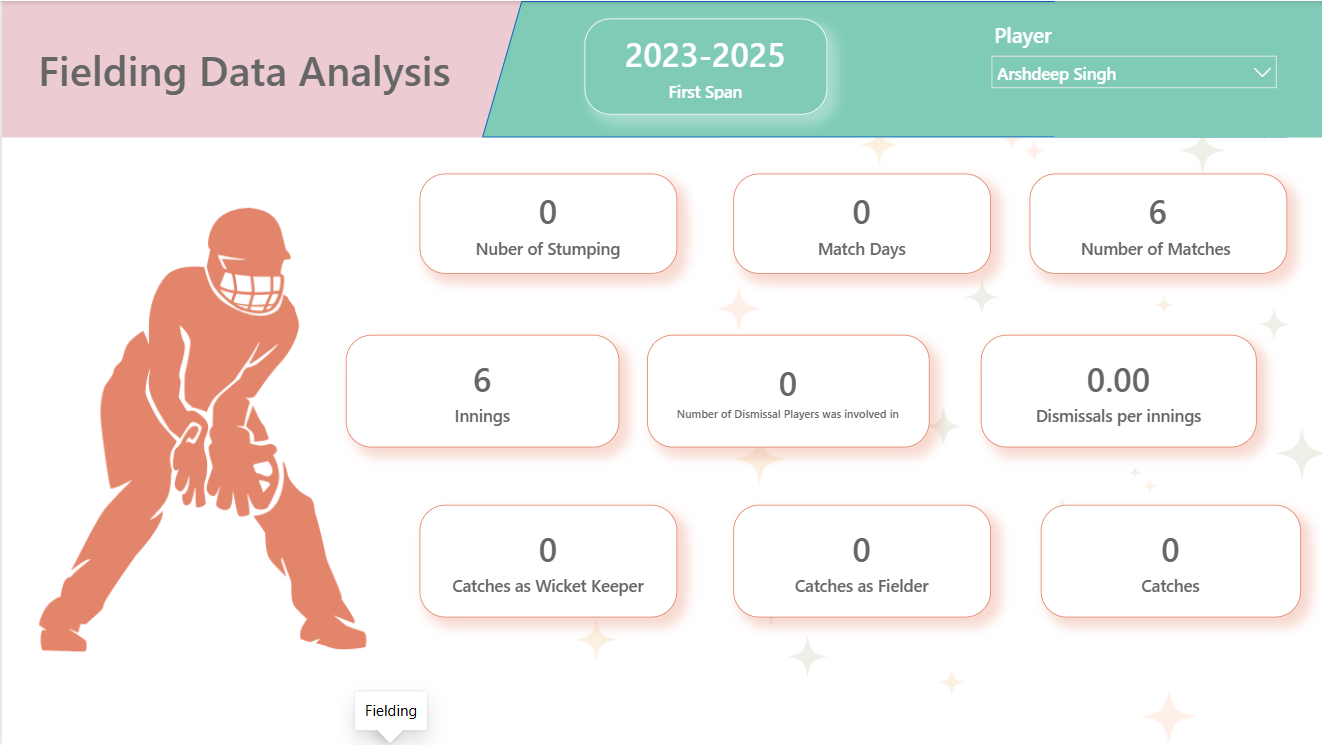

This screenshot's page, from the dashboard's own definition file:
{"tool":"powerbi","page":{"name":"Fielding","canvas":[1280,720],"ordinal":2},"visuals":[{"type":"shape","box":[0,0,693,131.7],"z":0},{"type":"shape","box":[463.8,0,815.1,131.7],"z":1000},{"type":"shape","box":[1015.4,0,264.8,131.7],"z":2000},{"type":"slicer","fields":{"Values":["fielding.Player"]},"box":[944.6,14.5,295.6,103.8],"z":3000},{"type":"card","fields":{"Values":["Min(fielding.Span)"]},"box":[562.2,16.9,234,92.9],"z":4000},{"type":"card","fields":{"Values":["Sum(fielding.St)"]},"box":[403,166.5,248.5,96.5],"z":5000},{"type":"card","fields":{"Values":["Min(fielding.MD)"]},"box":[705.8,166.5,248.5,96.5],"z":6000},{"type":"card","fields":{"Values":["Sum(fielding.Mat)"]},"box":[991.7,166.5,248.5,96.5],"z":7000},{"type":"card","fields":{"Values":["Sum(fielding.Inns)"]},"box":[331.8,322.1,264.2,108.6],"z":8000},{"type":"card","fields":{"Values":["Sum(fielding.DisDescending)"]},"box":[622.5,322.1,272.7,108.6],"z":9000},{"type":"card","fields":{"Values":["Sum(fielding.D/I)"]},"box":[944.6,322.1,266.6,108.6],"z":10000},{"type":"card","fields":{"Values":["Sum(fielding.Ct Wk)"]},"box":[403,486.2,248.5,108.6],"z":11000},{"type":"card","fields":{"Values":["Sum(fielding.Ct Fi)"]},"box":[705.8,486.2,248.5,108.6],"z":12000},{"type":"card","fields":{"Values":["Sum(fielding.Ct)"]},"box":[1002.6,486.2,250.9,108.6],"z":13000}]}

Visuals, with their boxes in screenshot pixels (x1, y1, x2, y2), scaled from the page's 1280x720 canvas onto the 1322x745 screenshot:
shape: (0, 0, 716, 136)
shape: (479, 0, 1321, 136)
shape: (1049, 0, 1321, 136)
slicer - fielding.Player: (976, 15, 1281, 122)
card - Min(fielding.Span): (581, 17, 822, 114)
card - Sum(fielding.St): (416, 172, 673, 272)
card - Min(fielding.MD): (729, 172, 986, 272)
card - Sum(fielding.Mat): (1024, 172, 1281, 272)
card - Sum(fielding.Inns): (343, 333, 616, 446)
card - Sum(fielding.DisDescending): (643, 333, 925, 446)
card - Sum(fielding.D/I): (976, 333, 1251, 446)
card - Sum(fielding.Ct Wk): (416, 503, 673, 615)
card - Sum(fielding.Ct Fi): (729, 503, 986, 615)
card - Sum(fielding.Ct): (1035, 503, 1295, 615)
